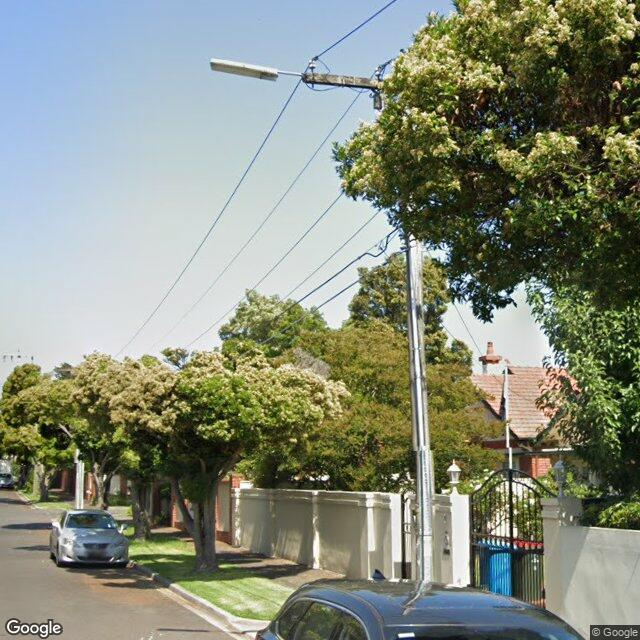crossarm: (302, 73, 387, 89)
streetlight: (210, 57, 302, 83)
timber-pole: (406, 228, 433, 584)
